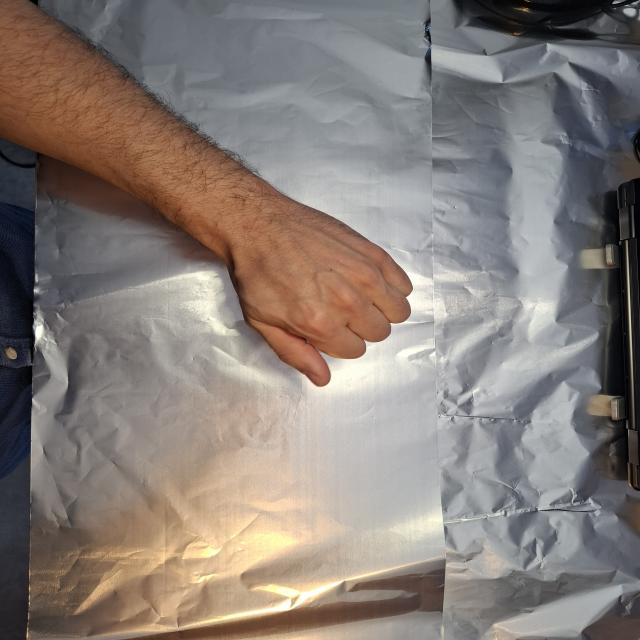glove_off: (205, 197, 416, 389)
